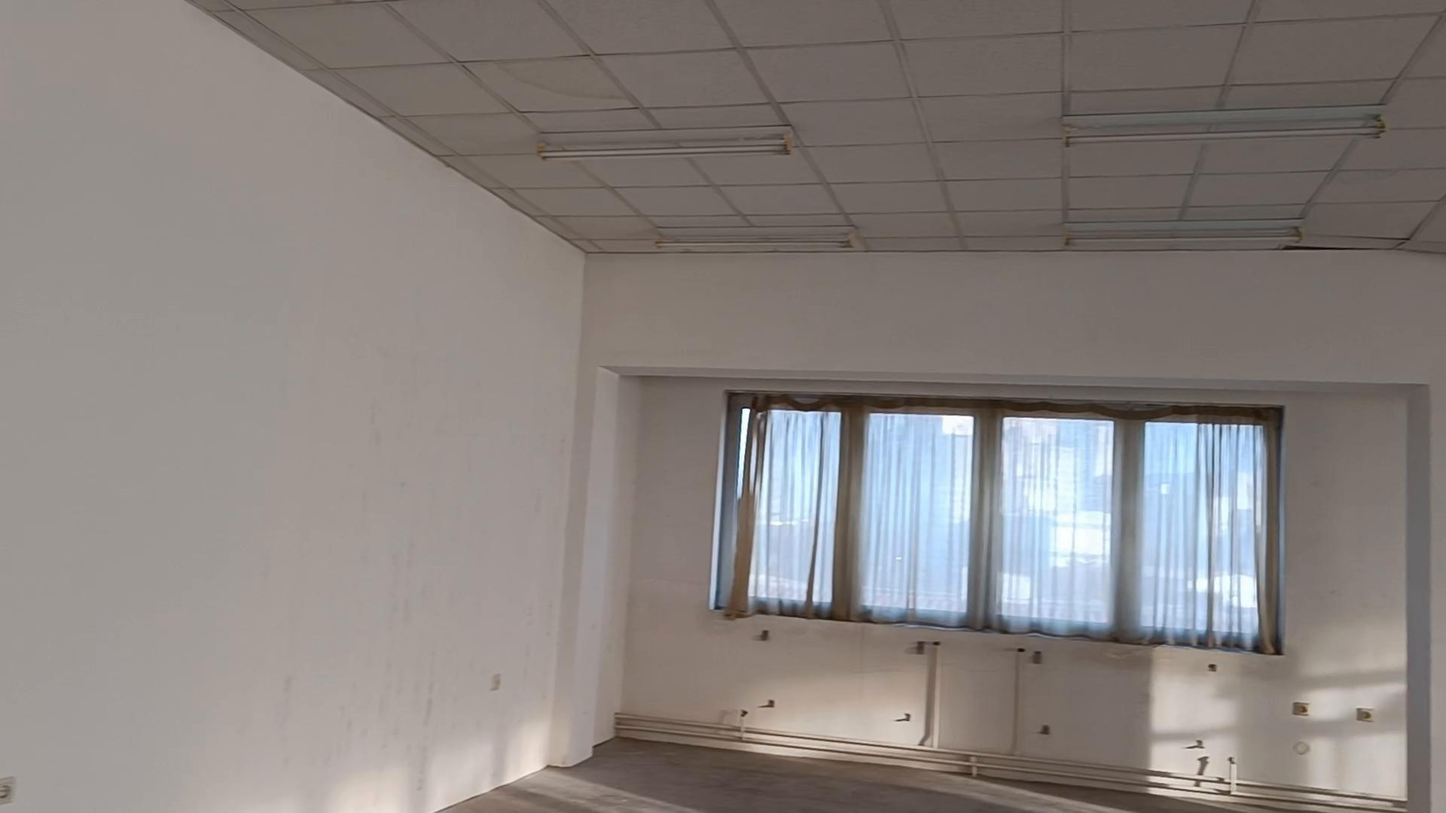ceiling: (189, 0, 1445, 252)
floor: (442, 739, 1301, 812)
wall: (0, 0, 1445, 812), (618, 400, 1400, 793)
